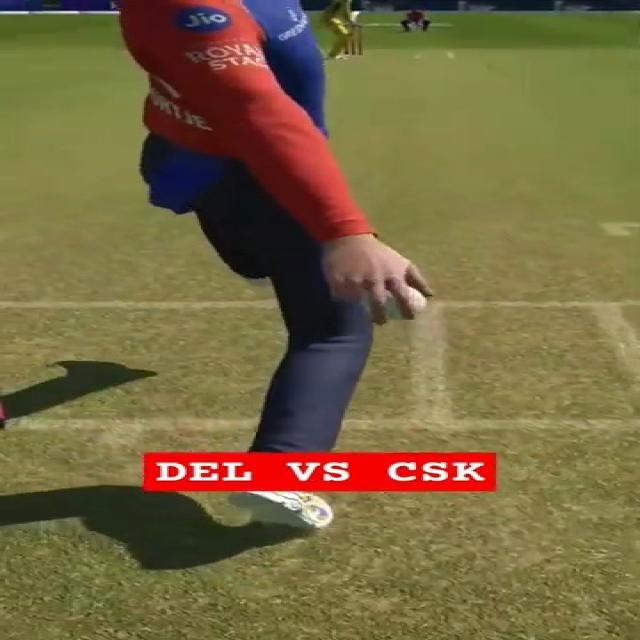ball: (409, 288, 427, 314), (386, 293, 402, 320)
